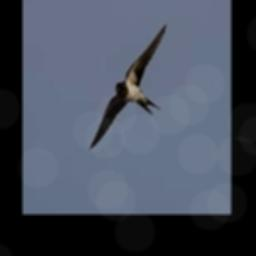Swallow: (89, 23, 167, 151)
